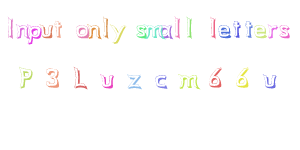3: (42, 63, 62, 91)
6: (232, 65, 254, 92), (207, 62, 224, 93)
I: (4, 14, 19, 39)
L: (68, 66, 95, 95)
P: (13, 62, 33, 93)
a: (160, 21, 172, 40)
c: (151, 68, 171, 91)
e: (253, 22, 267, 42), (217, 23, 232, 39)
l: (171, 16, 184, 39), (185, 15, 196, 39), (206, 17, 217, 41), (101, 17, 111, 41)
m: (178, 73, 203, 93), (144, 19, 161, 42)
n: (88, 20, 102, 41), (15, 20, 29, 39)
o: (75, 21, 88, 42)
p: (26, 23, 42, 48)
r: (267, 20, 279, 39)
s: (135, 21, 147, 42), (280, 21, 292, 40)
t: (232, 17, 243, 40), (244, 19, 254, 41), (54, 17, 63, 38)
u: (95, 69, 116, 92), (261, 72, 280, 90), (41, 21, 54, 42)
y: (110, 22, 128, 45)
z: (122, 68, 146, 92)
